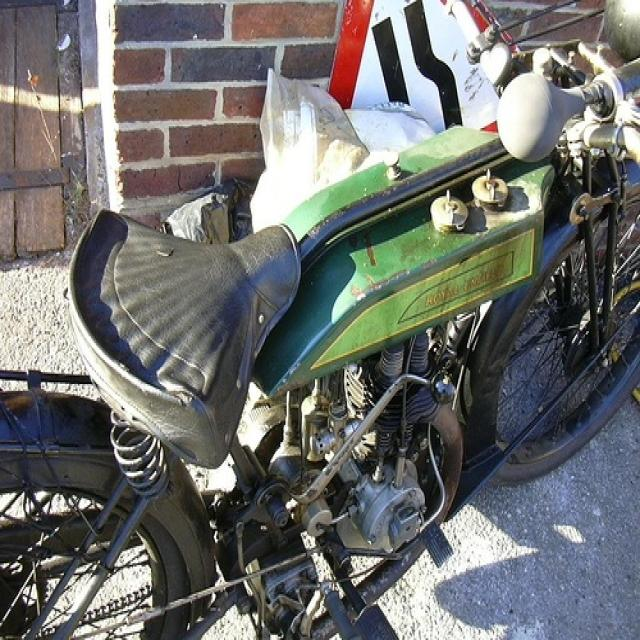motorbike: (5, 62, 640, 636)
